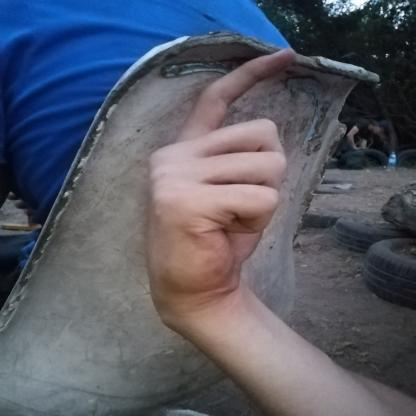RAA: (133, 40, 314, 314)
